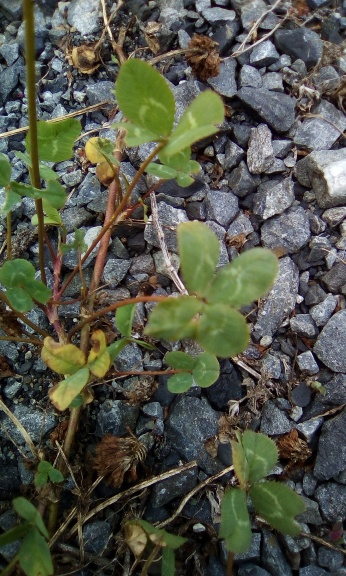4leaf: (142, 218, 281, 360)
